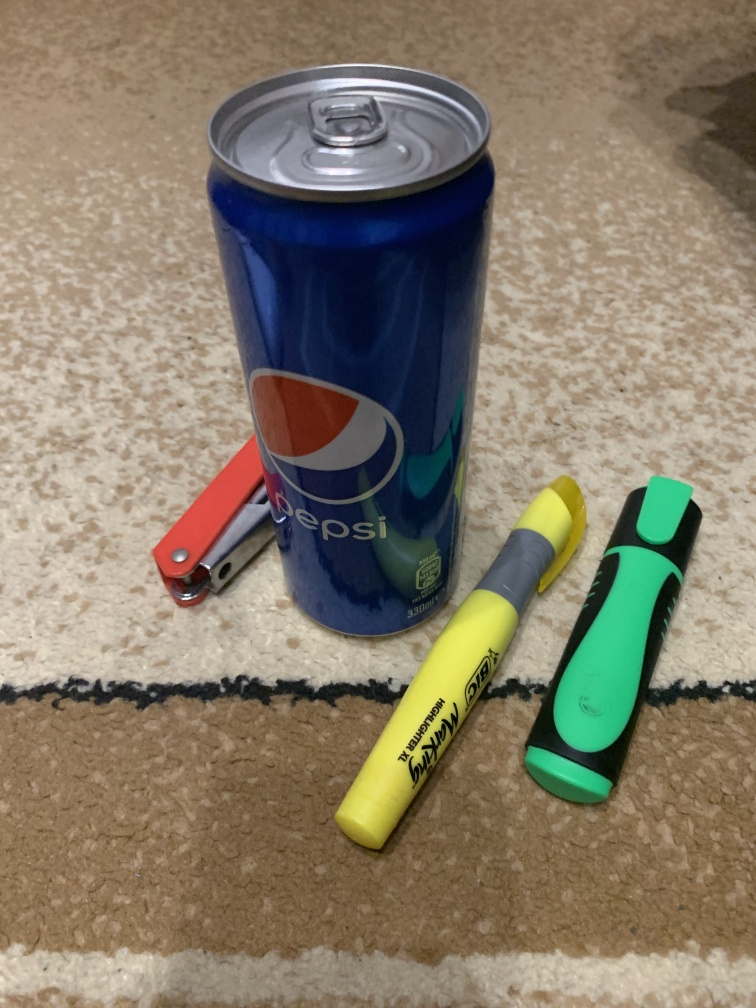pepsi: (199, 62, 499, 667)
